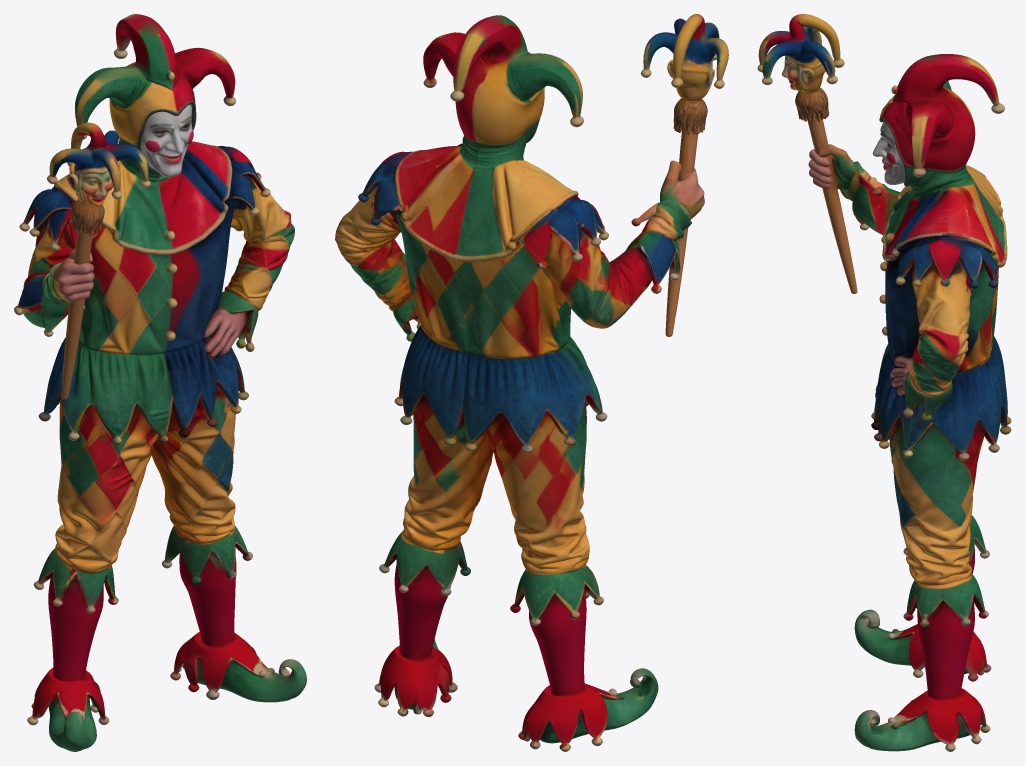
File: agent-08.glb
3 renders of one model, left to right at view 1: azimuth 30°, elevation 25°; view 2: azimuth 150°, elevation 25°; view 3: azimuth 270°, elevation 25°, orthographic. The views are drawn at different scales.
Visible parts, largest first — view 1: material; view 2: material; view 3: material.
Boxes of the visible parts, bbox=[...] form: material: bbox=[14, 14, 306, 751]; material: bbox=[335, 14, 728, 751]; material: bbox=[757, 14, 1011, 751].
Size of the model in its own units: 0.531 by 1.12 by 0.3962.
Materials: 1 (1 with a texture image).
